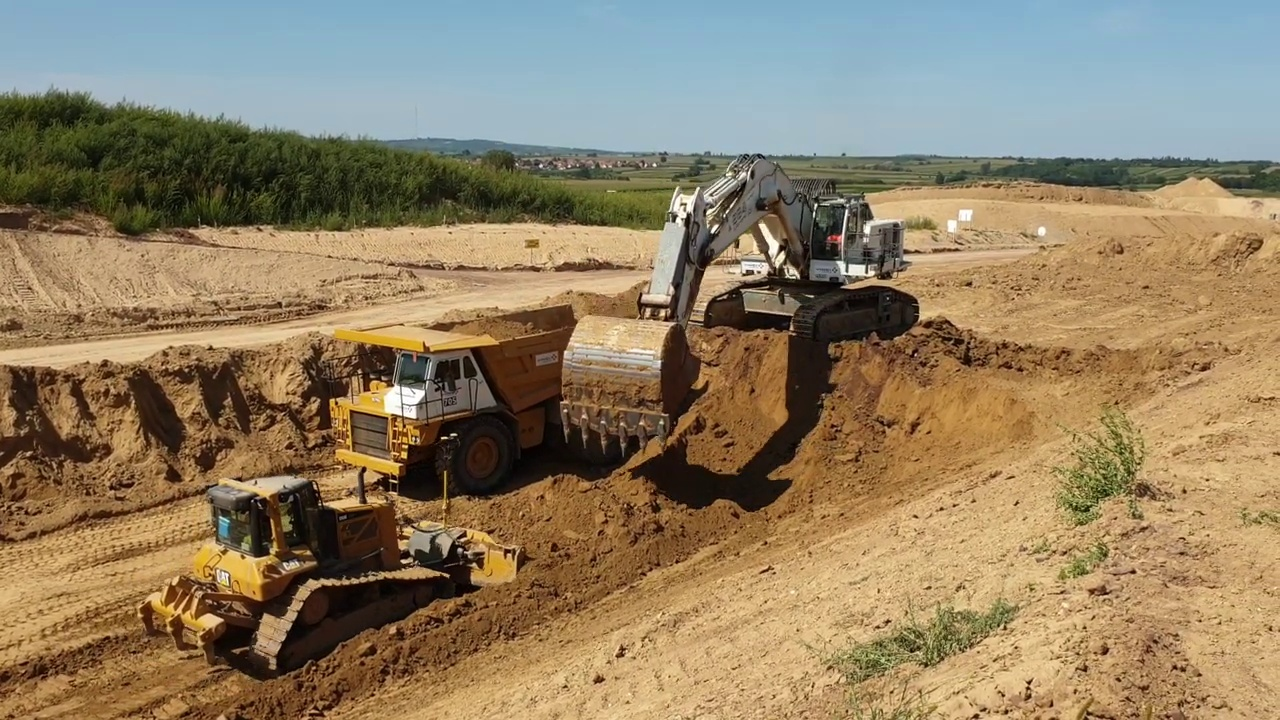bulldozer: (135, 428, 533, 682)
excavator: (559, 152, 921, 455)
truck: (319, 300, 698, 505)
